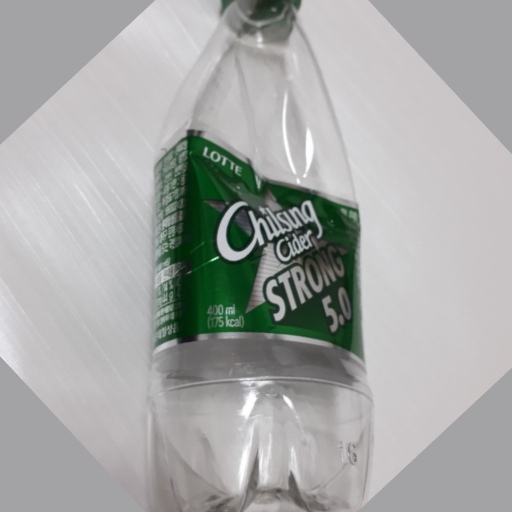Plastic_0: (155, 1, 373, 512)
